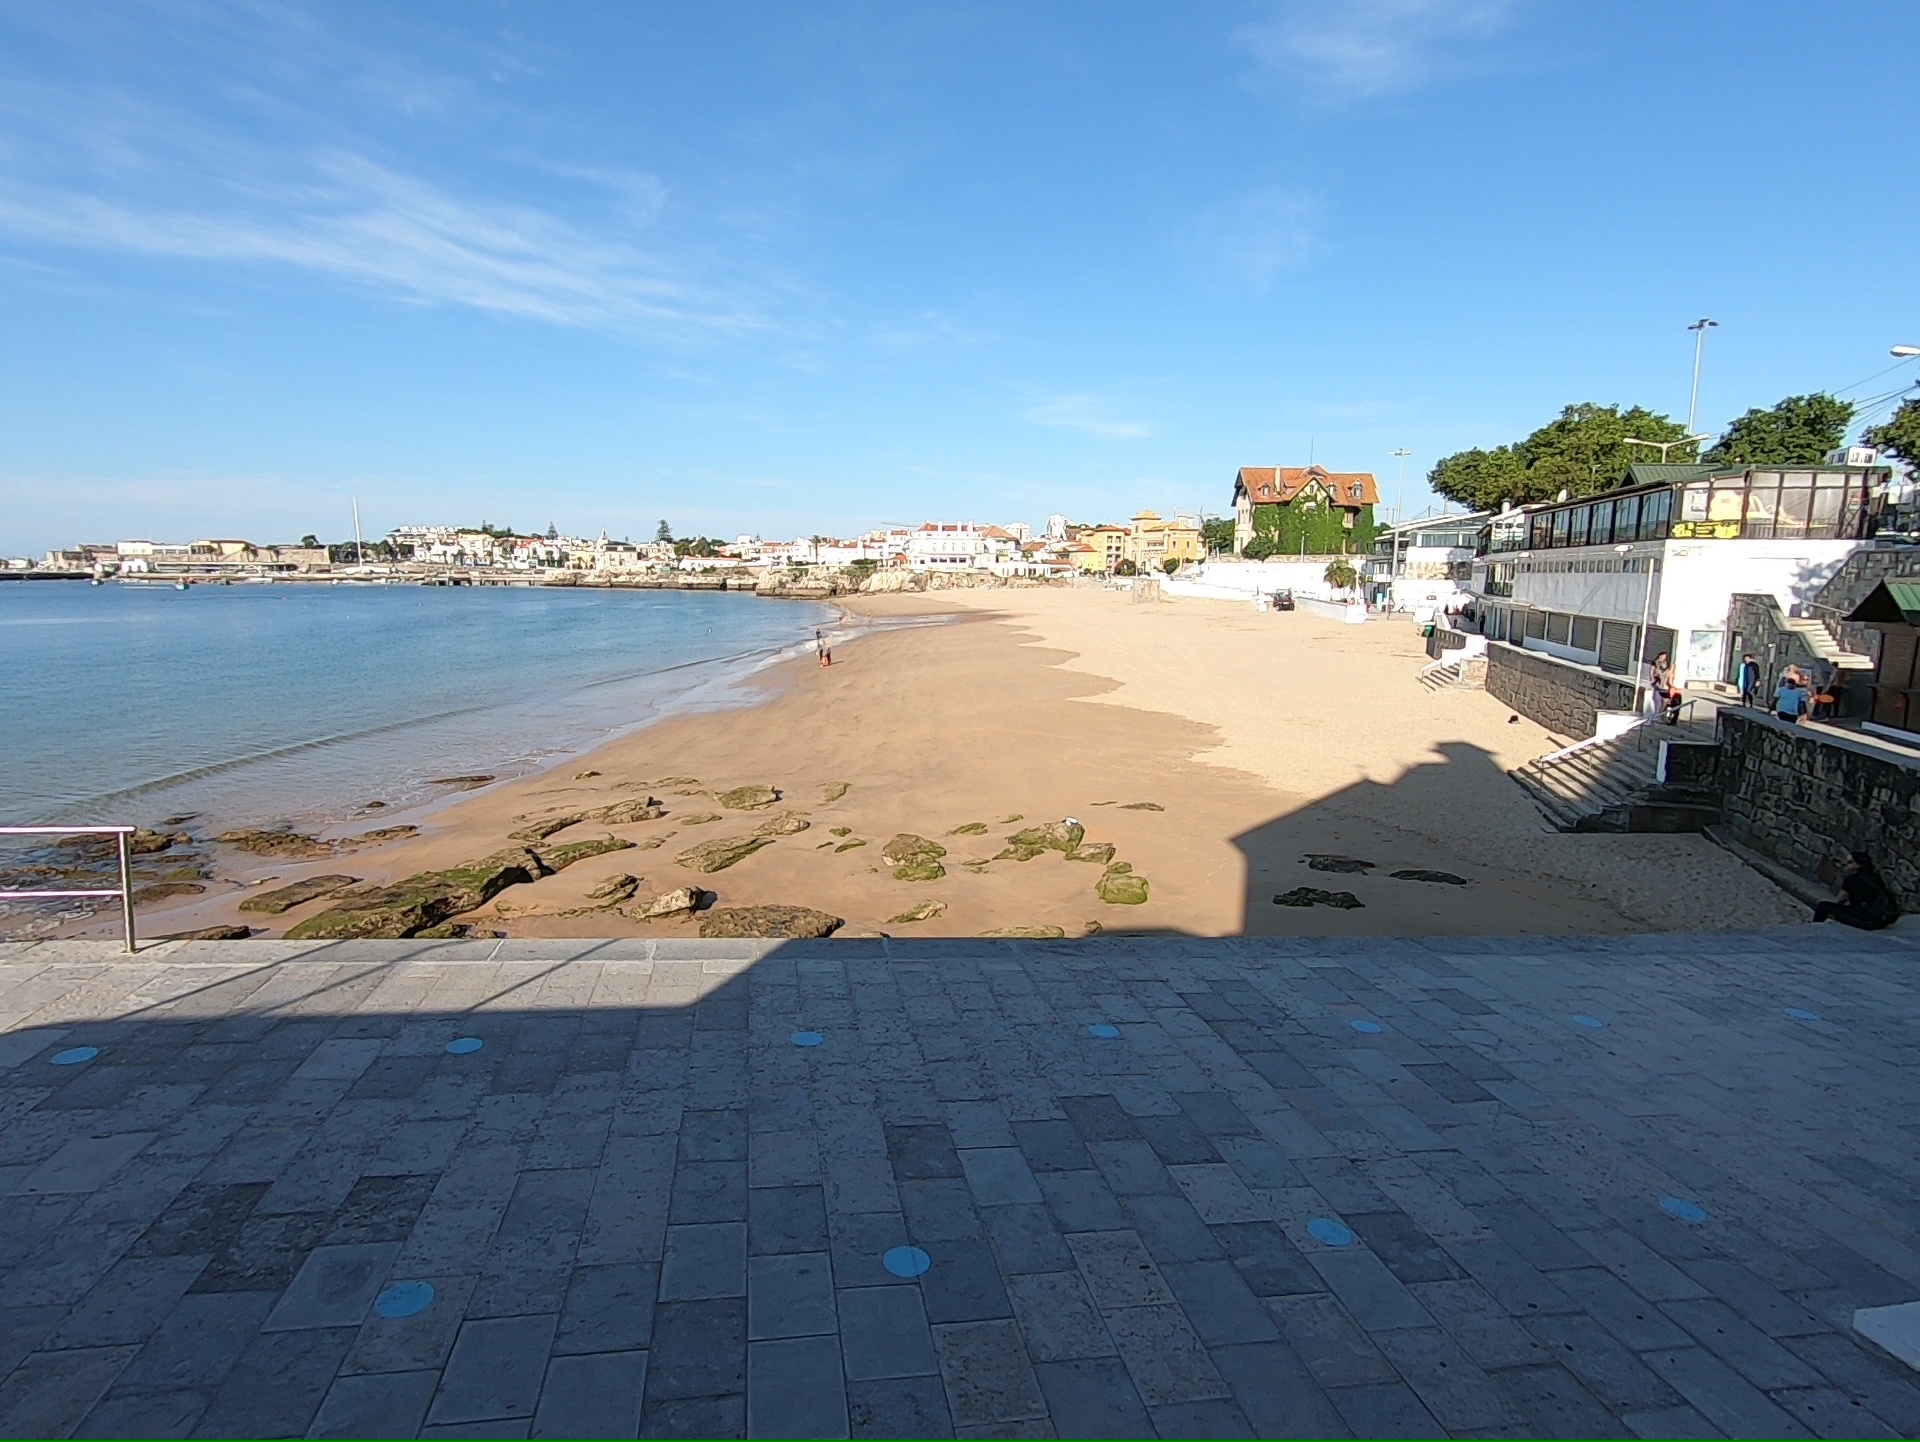person: (1816, 850, 1902, 929), (1771, 675, 1811, 723), (1735, 654, 1759, 708), (1657, 663, 1679, 719), (1823, 660, 1846, 717), (826, 646, 832, 668), (819, 647, 823, 663), (816, 627, 820, 639)
